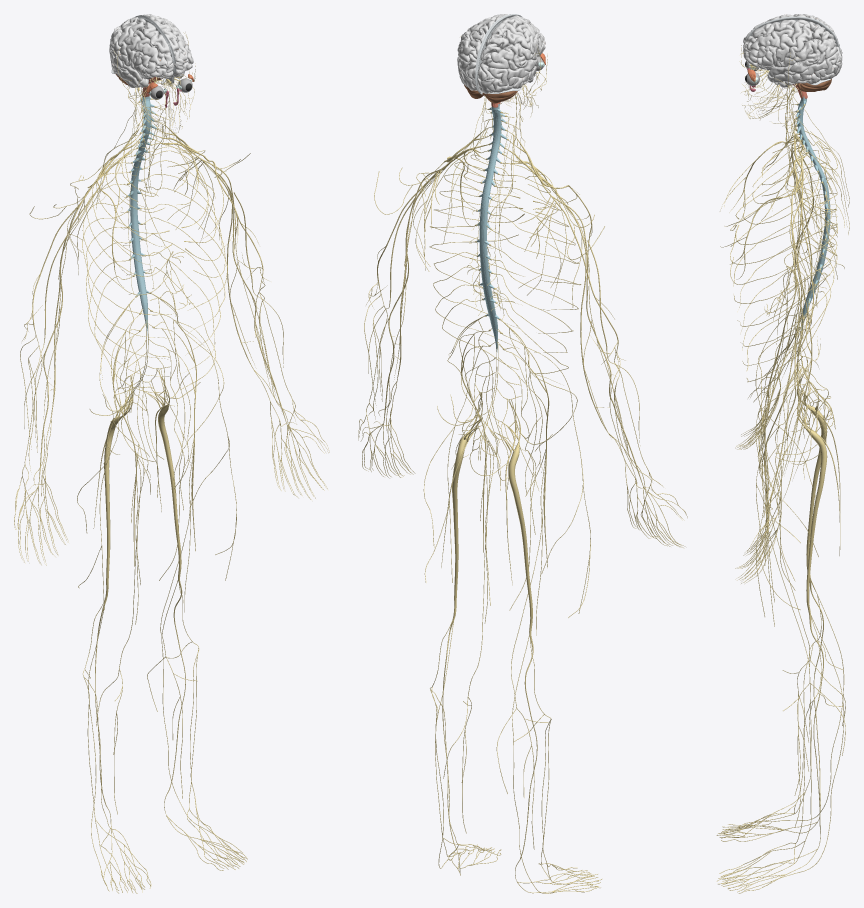
Rendered from nerves.glb.
3 renders of one model, left to right at view 1: azimuth 30°, elevation 25°; view 2: azimuth 150°, elevation 25°; view 3: azimuth 270°, elevation 25°, orthographic. The views are drawn at different scales.
Visible parts, largest first — view 1: Spinal dura, Intercostal nerves R, Intercostal nerves L, Sciatic nerve R, Sciatic nerve L, Middle frontal gyrus R; view 2: Spinal dura, Intercostal nerves L, Intercostal nerves R, Sciatic nerve R, Sciatic nerve L, Saphenous nerve R; view 3: Intercostal nerves L, Spinal dura, Intercostal nerves R, Sciatic nerve L, Sciatic nerve R, Middle frontal gyrus L, Saphenous nerve L, Lateral femoral cutaneous nerve L, Median nerve L, Saphenous nerve R, Middle temporal gyrus L, Precentral gyrus L (+17 smaller).
Part boxes in pixels (x1=…): Spinal dura: x1=128, y1=95, x2=156, y2=335; Intercostal nerves R: x1=82, y1=148, x2=173, y2=392; Intercostal nerves L: x1=141, y1=143, x2=227, y2=389; Sciatic nerve R: x1=104, y1=376, x2=132, y2=595; Sciatic nerve L: x1=146, y1=369, x2=181, y2=577; Middle frontal gyrus R: x1=133, y1=30, x2=166, y2=74; Spinal dura: x1=476, y1=104, x2=507, y2=352; Intercostal nerves L: x1=429, y1=154, x2=524, y2=369; Intercostal nerves R: x1=491, y1=163, x2=581, y2=373; Sciatic nerve R: x1=495, y1=400, x2=532, y2=632; Sciatic nerve L: x1=452, y1=393, x2=481, y2=613; Saphenous nerve R: x1=496, y1=452, x2=545, y2=849; Intercostal nerves L: x1=730, y1=153, x2=837, y2=382; Spinal dura: x1=796, y1=96, x2=830, y2=330; Intercostal nerves R: x1=730, y1=140, x2=837, y2=371; Sciatic nerve L: x1=797, y1=384, x2=827, y2=612; Sciatic nerve R: x1=797, y1=370, x2=827, y2=577; Middle frontal gyrus L: x1=744, y1=29, x2=794, y2=62; Saphenous nerve L: x1=761, y1=453, x2=845, y2=827; Lateral femoral cutaneous nerve L: x1=755, y1=340, x2=818, y2=616; Median nerve L: x1=769, y1=197, x2=802, y2=508; Saphenous nerve R: x1=762, y1=423, x2=845, y2=795; Middle temporal gyrus L: x1=773, y1=60, x2=827, y2=82; Precentral gyrus L: x1=775, y1=21, x2=804, y2=62.
Bounding box in the file's own units: 0.6674 × 1.69 × 0.2426.
